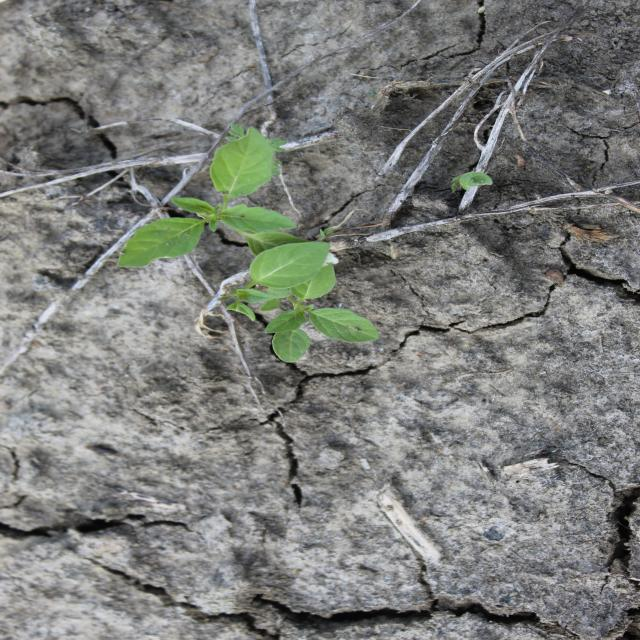CutleafGroundcherry: (115, 123, 322, 270), (217, 238, 382, 366)
